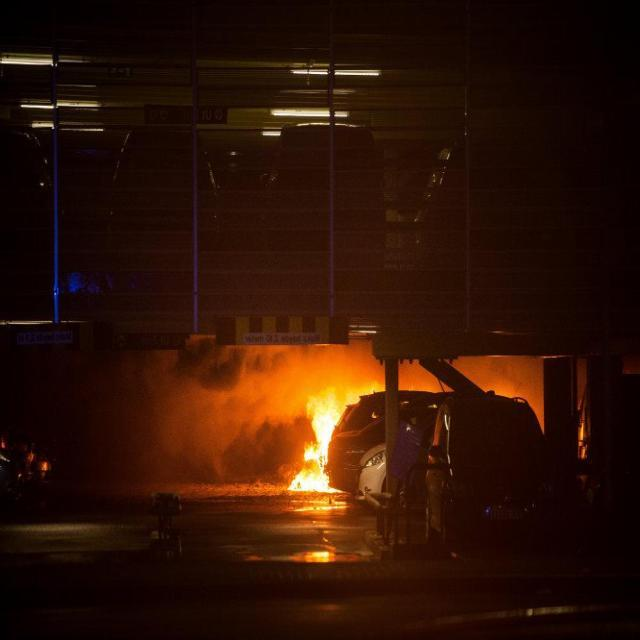Fire: (296, 394, 344, 495)
Smoke: (86, 336, 294, 498), (294, 336, 574, 396)
